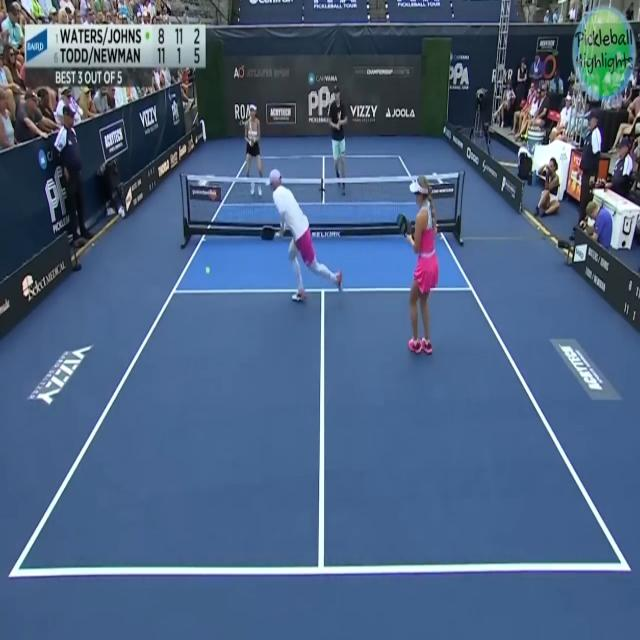Pickleball: (204, 264, 210, 276)
